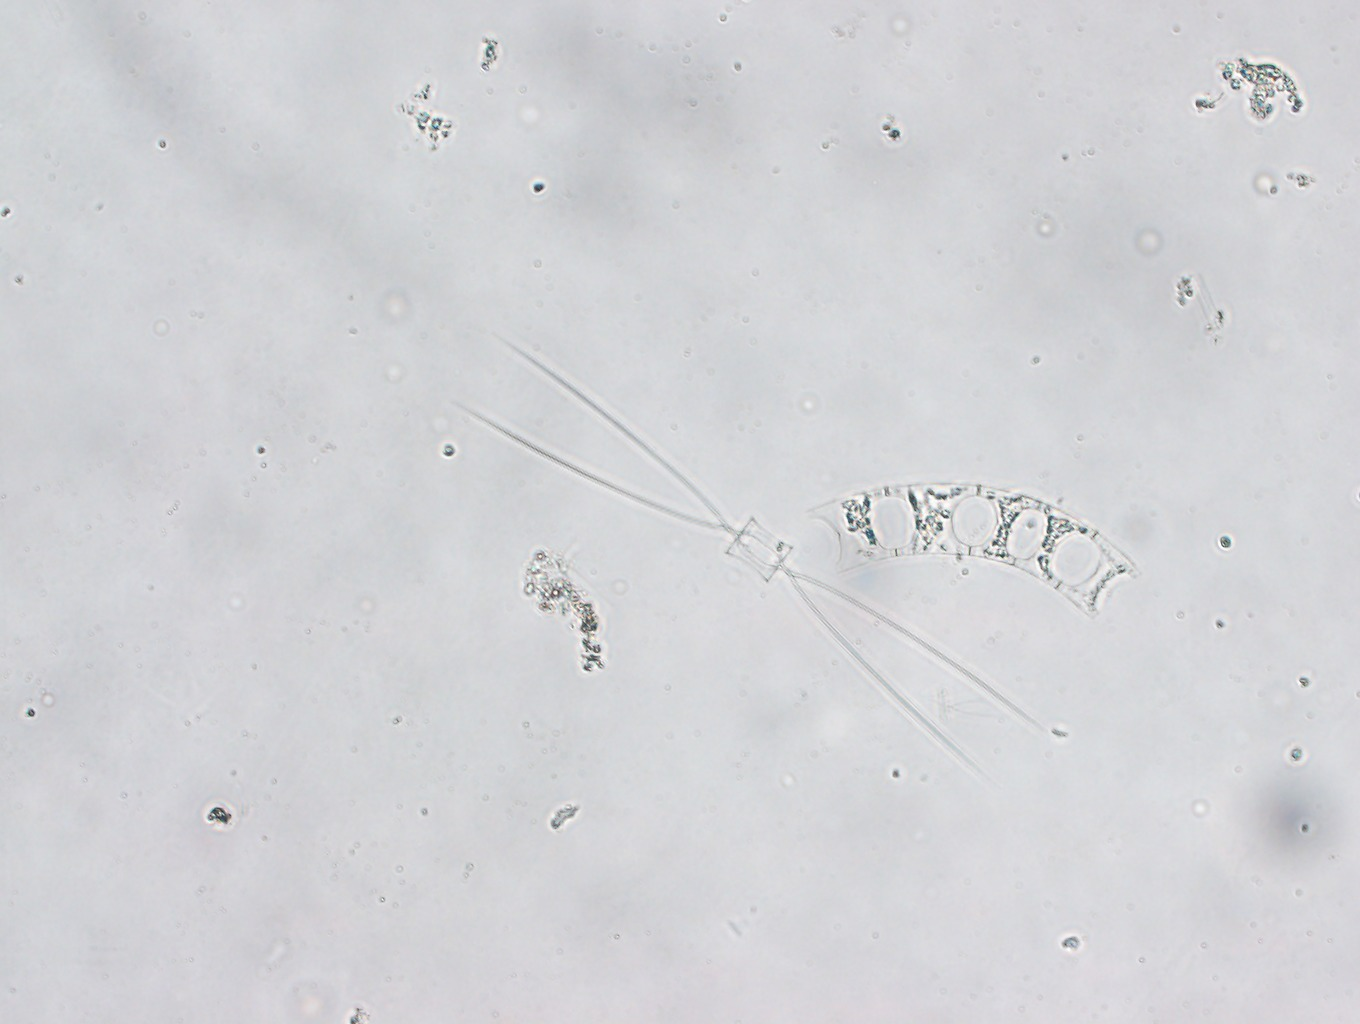chaetoceros: (452, 335, 1046, 778)
eucampia: (807, 482, 1137, 620)
